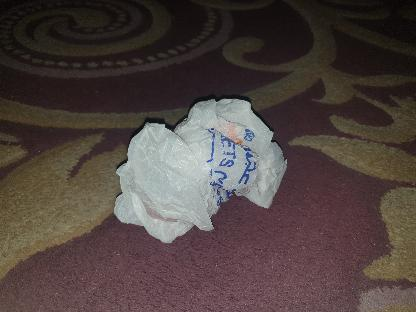Plastic Bag: (113, 99, 287, 244)
